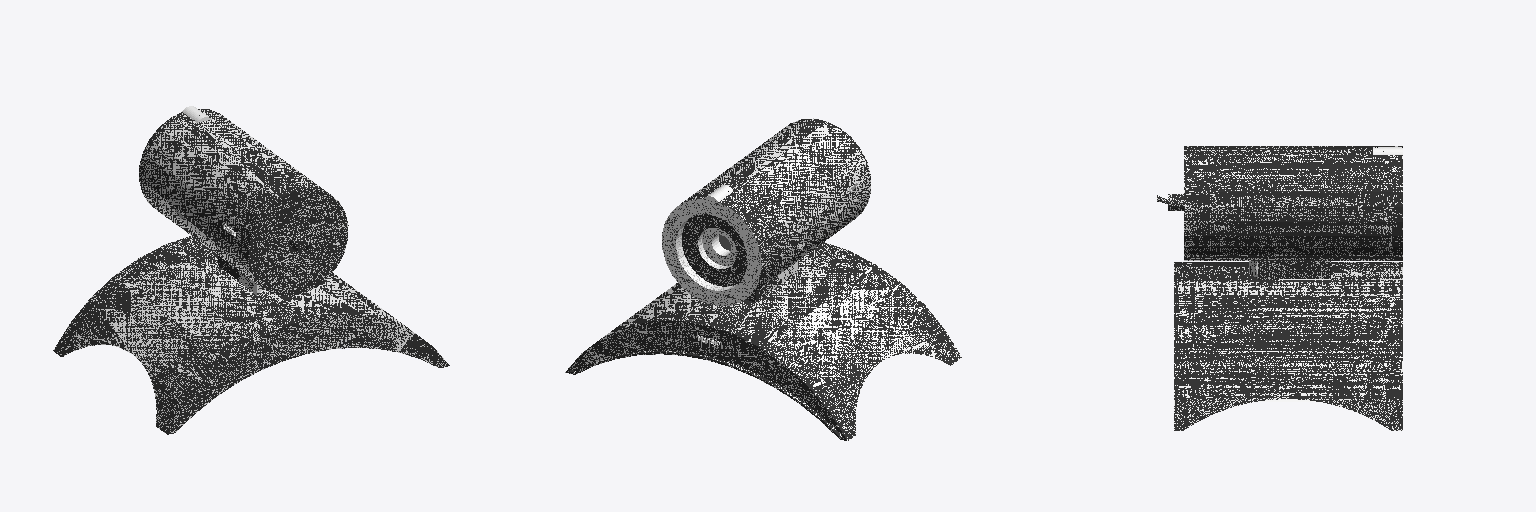
3 views of the same model, side by side, from view 1: azimuth 30°, elevation 25°; view 2: azimuth 150°, elevation 25°; view 3: azimuth 270°, elevation 25° (orthographic).
Visible parts, largest first — view 1: mesh39_mesh39-geometry; view 2: mesh39_mesh39-geometry; view 3: mesh39_mesh39-geometry.
Boxes of the visible parts, x1=… form: mesh39_mesh39-geometry: x1=53, y1=106, x2=449, y2=434; mesh39_mesh39-geometry: x1=565, y1=118, x2=961, y2=440; mesh39_mesh39-geometry: x1=1157, y1=146, x2=1402, y2=430.
Size of the model in its own units: 0.6927 by 0.4956 by 0.524.
Materials: 7 (1 with a texture image).